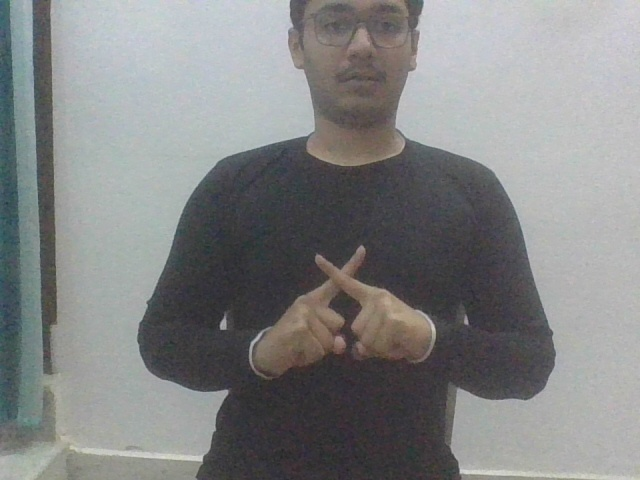X: (269, 244, 415, 370)
